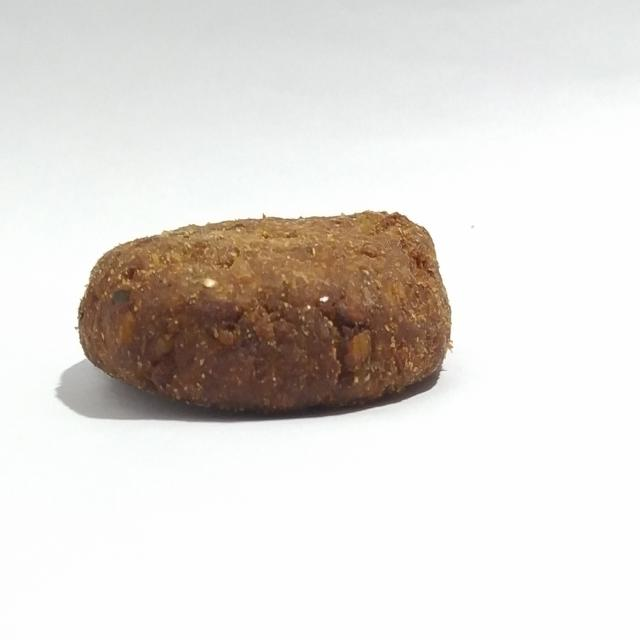Food: (70, 190, 462, 420)
